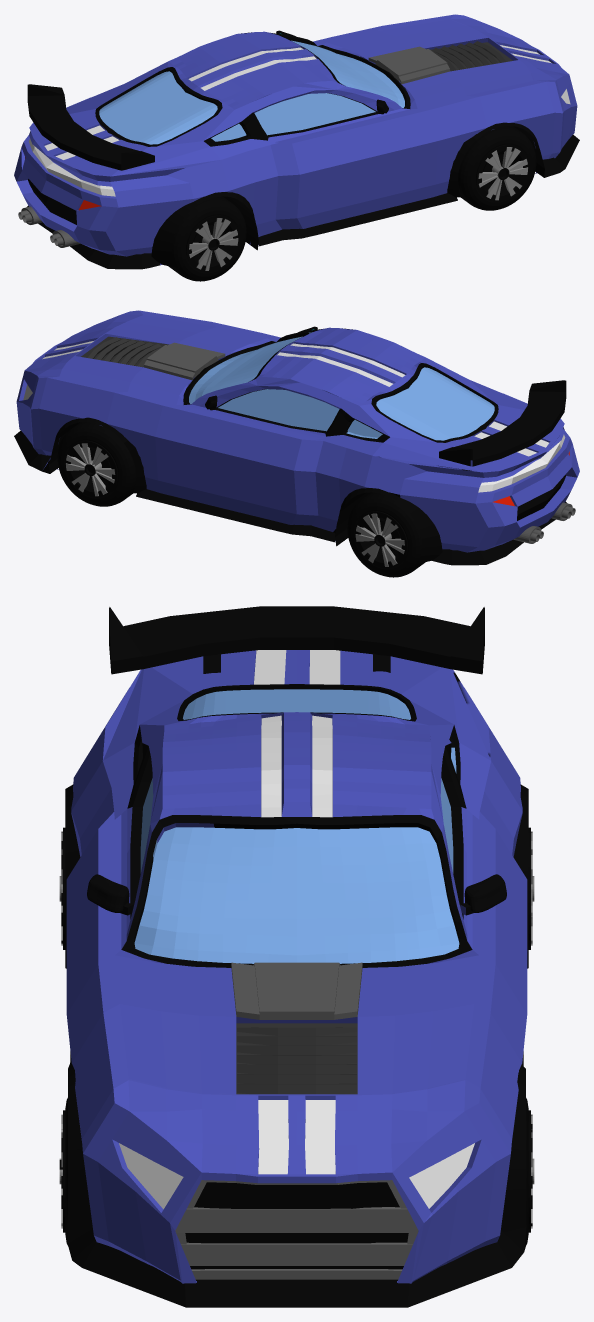
Rendered from Boss2.fbx.
3 views of the same model, one above another, from view 1: azimuth 30°, elevation 25°; view 2: azimuth 150°, elevation 25°; view 3: azimuth 270°, elevation 25° (orthographic). The views are drawn at different scales.
Parts seen in each view (by area): view 1: Car Model, Car_Windows.001, Seperate_Part, Car Model.005, Front_Wheels, Back Wheels, Car Model.001, Car_Engine, Car_Lines, Back_Wheels_Rims, Front_Wheels_Rims, Car Model.009 (+4 smaller); view 2: Car Model, Car_Windows.001, Seperate_Part, Car Model.005, Front_Wheels, Back Wheels, Car Model.001, Car_Engine, Car_Lines, Back_Wheels_Rims, Front_Wheels_Rims, Car Model.010 (+4 smaller); view 3: Car Model, Car_Windows.001, Seperate_Part, Car Model.005, Car Model.004, Car_Lines, Car_Engine, Car Model.006, Car Model.001, Car Model.003, Car Model.011, Car Model.009 (+3 smaller).
Part boxes in pixels (<box>): Car Model: <box>14,14,577,264</box>; Car_Windows.001: <box>99,32,410,144</box>; Seperate_Part: <box>27,57,579,269</box>; Car Model.005: <box>27,84,154,170</box>; Front_Wheels: <box>457,126,536,210</box>; Back Wheels: <box>168,196,246,281</box>; Car Model.001: <box>368,46,449,84</box>; Car_Engine: <box>430,41,512,71</box>; Car_Lines: <box>44,45,551,159</box>; Back_Wheels_Rims: <box>189,218,238,270</box>; Front_Wheels_Rims: <box>478,147,527,200</box>; Car Model.009: <box>204,93,378,146</box>; Car Model: <box>16,310,579,552</box>; Car_Windows.001: <box>183,328,494,440</box>; Seperate_Part: <box>14,353,566,565</box>; Car Model.005: <box>439,380,566,466</box>; Front_Wheels: <box>57,422,136,506</box>; Back Wheels: <box>347,492,425,577</box>; Car Model.001: <box>144,342,225,380</box>; Car_Engine: <box>81,336,168,367</box>; Car_Lines: <box>42,340,548,456</box>; Back_Wheels_Rims: <box>355,513,404,566</box>; Front_Wheels_Rims: <box>66,443,115,496</box>; Car Model.010: <box>371,363,498,442</box>; Car Model: <box>66,650,527,1283</box>; Car_Windows.001: <box>121,689,472,967</box>; Seperate_Part: <box>65,784,528,1307</box>; Car Model.005: <box>109,606,484,674</box>; Car Model.004: <box>175,1180,418,1279</box>; Car_Lines: <box>254,650,340,1174</box>; Car_Engine: <box>236,1023,357,1094</box>; Car Model.006: <box>185,1182,408,1269</box>; Car Model.001: <box>231,962,362,1019</box>; Car Model.003: <box>119,1143,474,1209</box>; Car Model.011: <box>87,874,506,915</box>; Car Model.009: <box>127,725,152,919</box>.
Size of the model in its own units: 1892 by 556 by 756.
16 materials, 1 textured.
